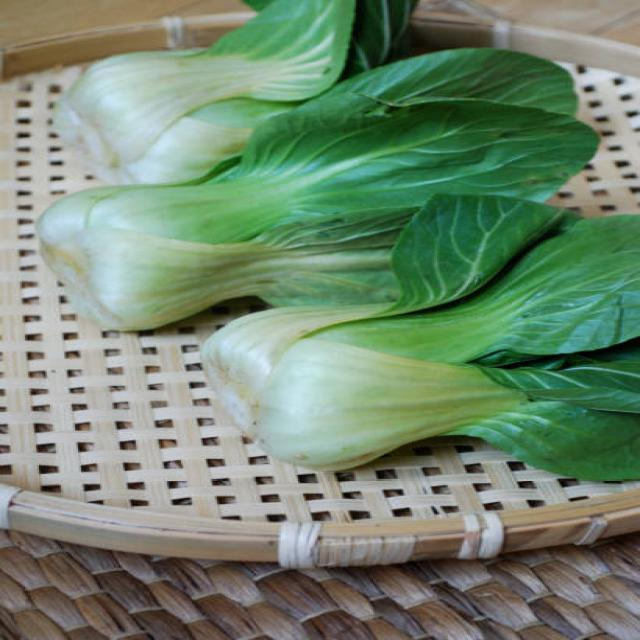Bok Choy: (220, 304, 640, 454), (28, 168, 514, 278), (36, 20, 253, 147)
